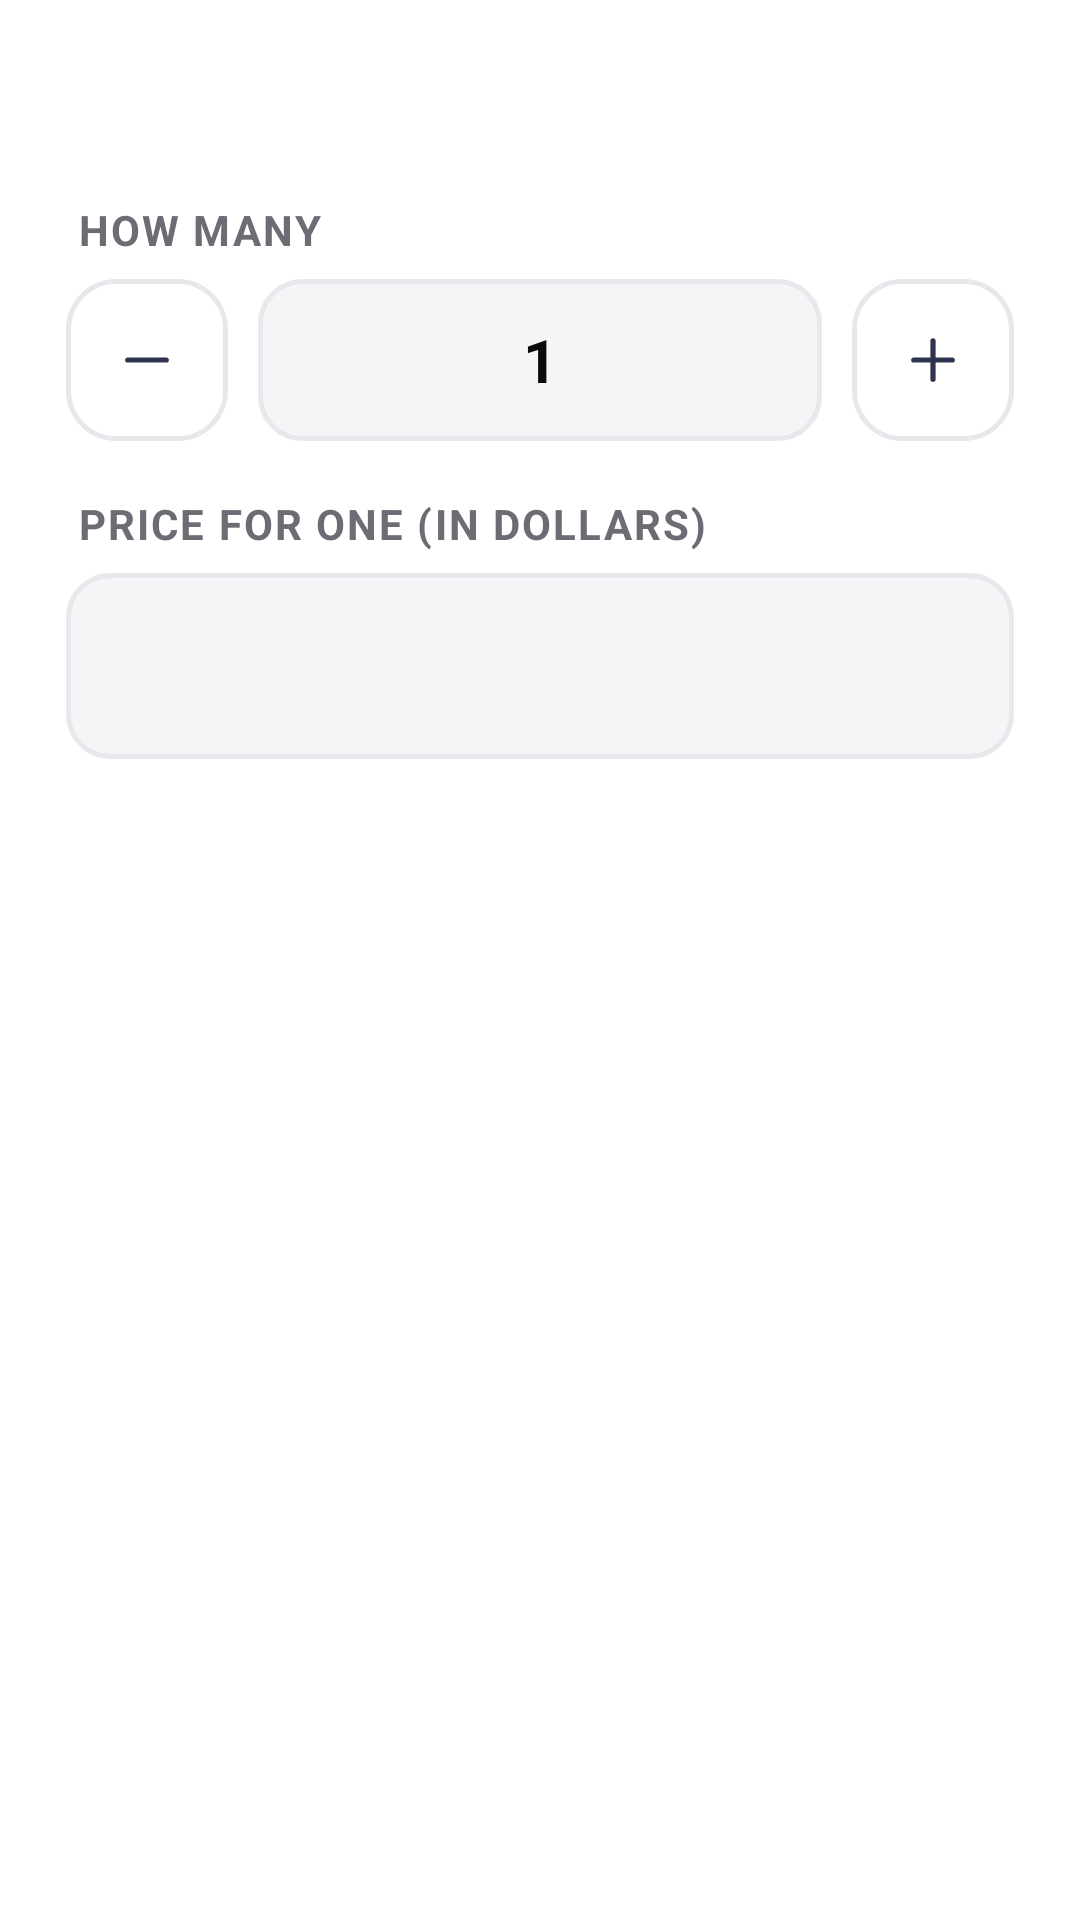

Point at icon controls on the screen. Image size 1080 x 1920, points as [x,y].
plus: [933,360]
